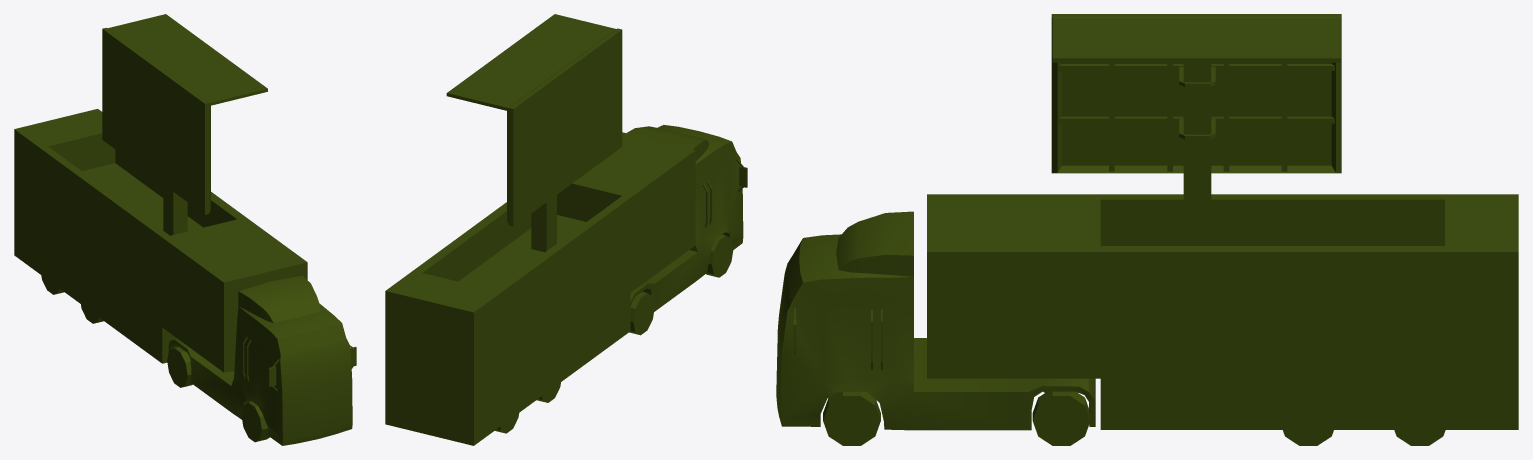
Rendered from Vehicle12_M.fbx.
3 renders of one model, left to right at view 1: azimuth 30°, elevation 25°; view 2: azimuth 150°, elevation 25°; view 3: azimuth 270°, elevation 25°, orthographic. The views are drawn at different scales.
Parts seen in each view (by area): view 1: Vehicle12; view 2: Vehicle12; view 3: Vehicle12.
Boxes of the visible parts, x1,y1,x2,y2 form: Vehicle12: (14,14,356,445); Vehicle12: (385,14,747,445); Vehicle12: (776,14,1518,445).
Bounding box in the file's own units: 1.87 × 5.5 × 9.43.
